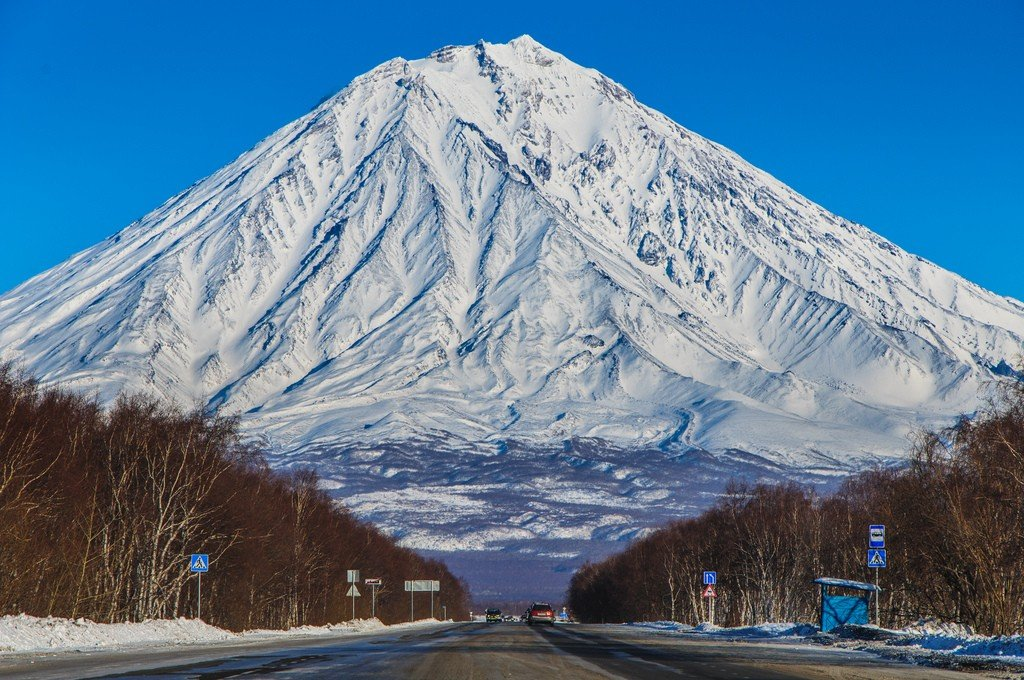sign: (868, 523, 886, 548), (867, 547, 888, 568), (190, 553, 210, 572), (702, 568, 718, 586), (701, 584, 718, 600)
